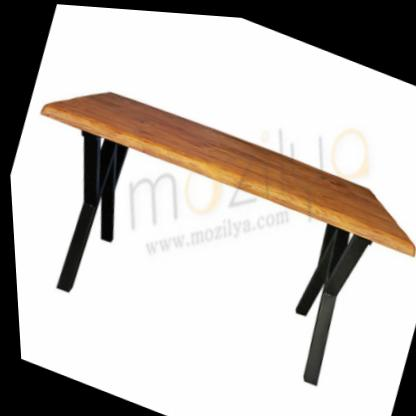Table: (1, 24, 416, 416)
